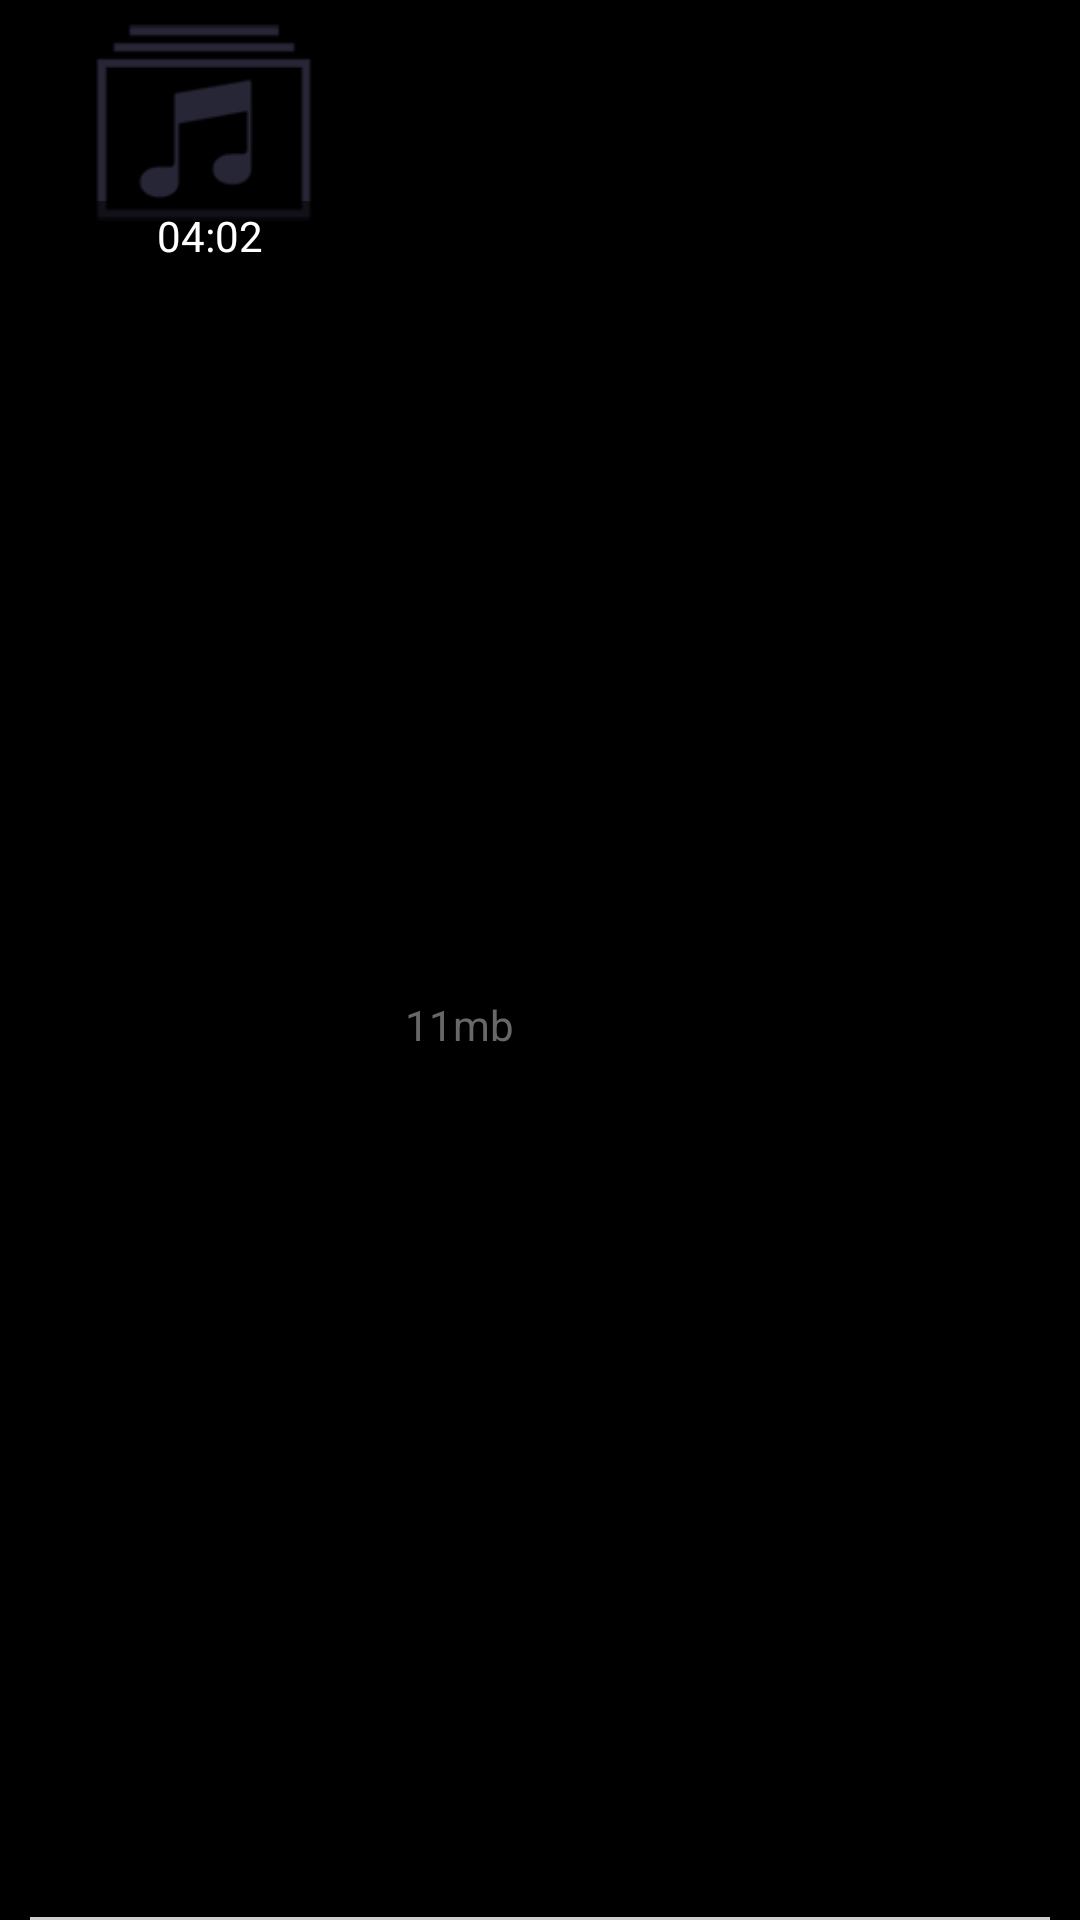

Named icons in this screenshot (1080x1920) and their bounding boxes, bbox(x1, y1, x2, y2):
file music: bbox(97, 25, 310, 253)
